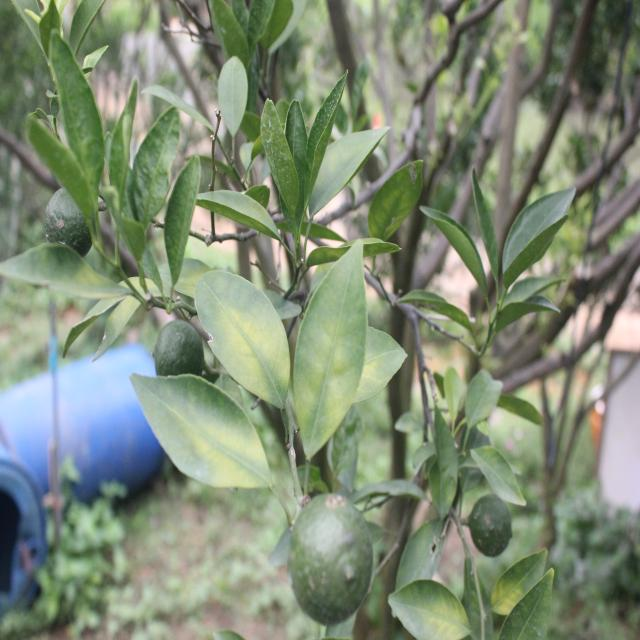greening: (132, 367, 268, 494), (295, 249, 369, 448), (194, 263, 294, 399)
